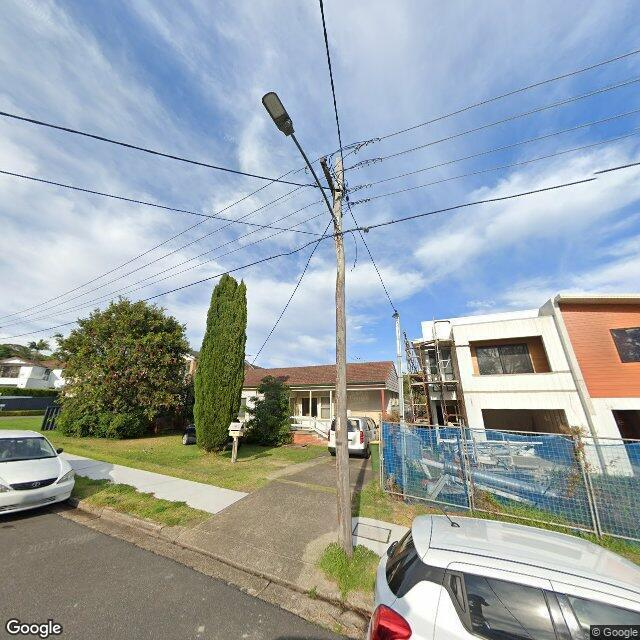crossarm: (320, 159, 334, 194)
steel-pole: (396, 314, 408, 500)
streetlight: (262, 90, 339, 228)
timber-pole: (334, 155, 352, 559)
